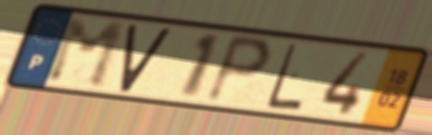1: (176, 31, 226, 100)
4: (315, 50, 373, 120)
L: (264, 41, 306, 113)
M: (42, 16, 129, 91)
P: (201, 31, 275, 107)
V: (116, 23, 175, 95)
